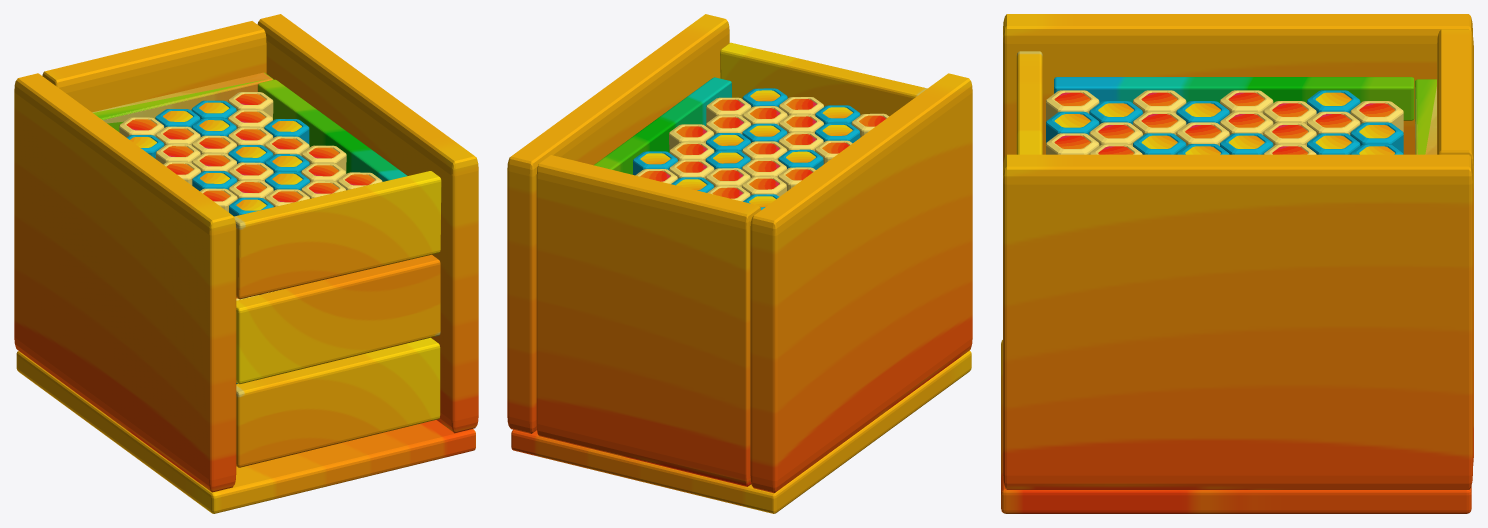
3 views of the same model, side by side, from view 1: azimuth 30°, elevation 25°; view 2: azimuth 150°, elevation 25°; view 3: azimuth 270°, elevation 25° (orthographic). The views are drawn at different scales.
Visible parts, largest first — view 1: Cube_L1_1, Cube_L1, Cube_L4_2, Cube_L5_2, Cube_L3_2, Cube_L1_3, Cube_L1_2, Cube_L4_1, Cube_L2_2, Cube_L4_4, Cube_L4_20, Cube_L4_34 (+22 smaller); view 2: Cube_L1_1, Cube_L1_2, Cube_L1, Cube_L1_3, Cube_L4_2, Cube_L4_1, Cube_L4_18, Cube_L4_4, Cube_L4_34, Cube_L4_22, Cube_L4_3, Cube_L4_6 (+15 smaller); view 3: Cube_L1, Cube_L1_1, Cube_L1_3, Cube_L4, Cube_L1_2, Cube_L4_2, Cube_L2_2, Cube_L4_16, Cube_L4_19, Cube_L4_21, Cube_L4_17, Cube_L4_12 (+15 smaller).
Boxes of the visible parts, x1,y1,x2,y2 form: Cube_L1_1: (14,73,236,492); Cube_L1: (257,14,478,433); Cube_L4_2: (234,171,441,299); Cube_L5_2: (236,254,440,384); Cube_L3_2: (236,337,440,467); Cube_L1_3: (16,351,475,513); Cube_L1_2: (42,21,266,112); Cube_L4_1: (257,79,407,181); Cube_L2_2: (92,72,273,131); Cube_L4_4: (301,145,346,173); Cube_L4_20: (228,92,273,117); Cube_L4_34: (264,119,309,144); Cube_L1_1: (750,73,972,493); Cube_L1_2: (536,155,760,486); Cube_L1: (507,14,729,433); Cube_L1_3: (511,350,971,513); Cube_L4_2: (720,42,927,116); Cube_L4_1: (594,77,731,174); Cube_L4_18: (706,97,751,123); Cube_L4_4: (669,124,713,150); Cube_L4_34: (633,151,677,175); Cube_L4_22: (742,176,786,196); Cube_L4_3: (778,149,823,169); Cube_L4_6: (815,123,860,143); Cube_L1: (1003,154,1472,489); Cube_L1_1: (1003,14,1472,166); Cube_L1_3: (1001,340,1471,513); Cube_L4: (1054,77,1414,120); Cube_L1_2: (1437,29,1473,465); Cube_L4_2: (1016,51,1042,154); Cube_L2_2: (1415,79,1436,154); Cube_L4_16: (1046,111,1099,142); Cube_L4_19: (1350,101,1403,132); Cube_L4_21: (1350,122,1403,153); Cube_L4_17: (1046,90,1099,121); Cube_L4_12: (1046,133,1099,154).
Bounding box in the file's own units: 11.9 × 12.39 × 15.22.
